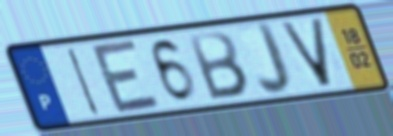6: (148, 37, 199, 105)
B: (185, 28, 252, 102)
E: (87, 36, 165, 117)
I: (65, 45, 103, 119)
J: (255, 20, 295, 98)
V: (276, 16, 335, 90)
